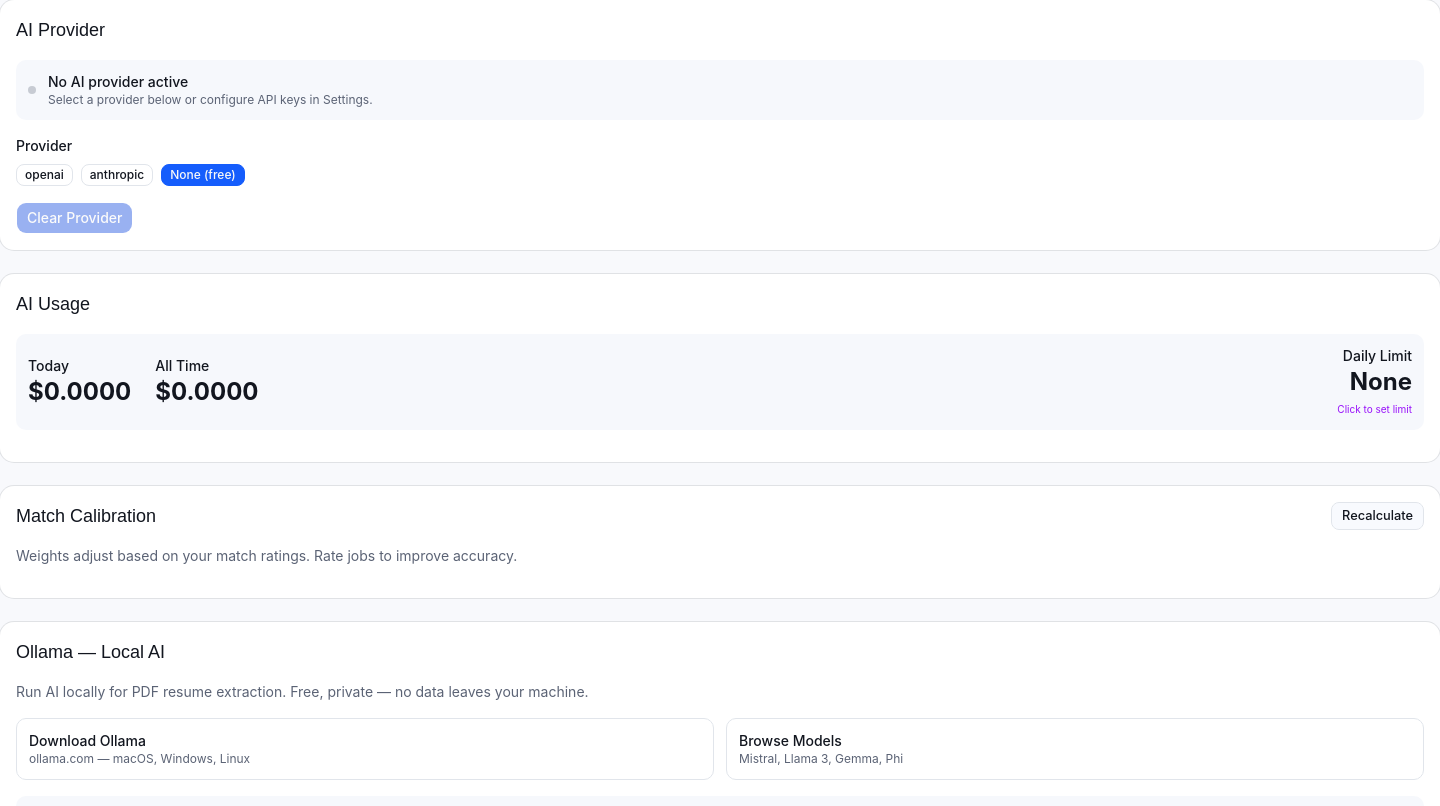
Scenario: Workflow: Configure LLM provider › surfaces failure message when saveLLM throws
Click the text "openai" at coordinates (44, 175), box [16,164,73,186]
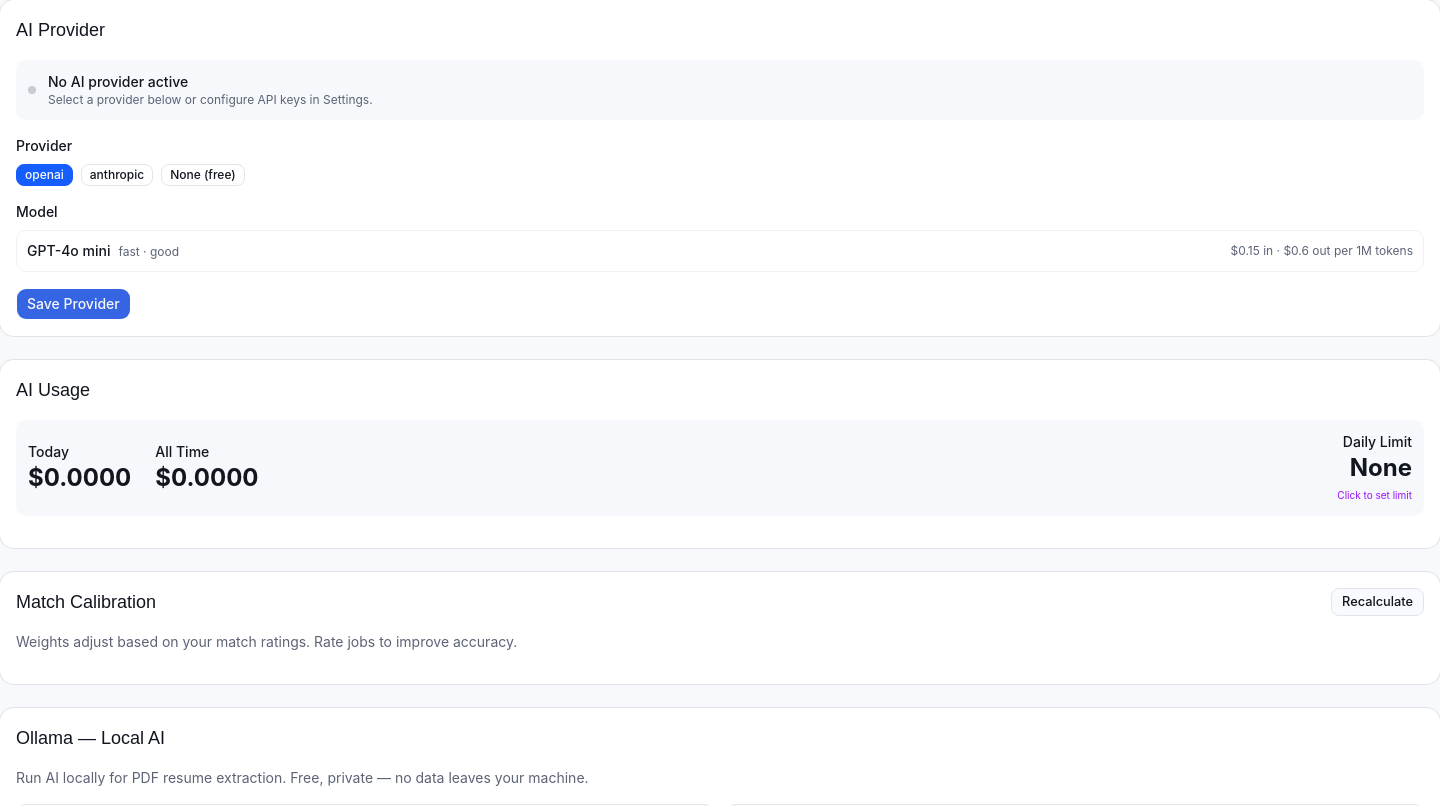
Click the text "GPT-4o mini" at coordinates (69, 250), box [27,242,110,259]
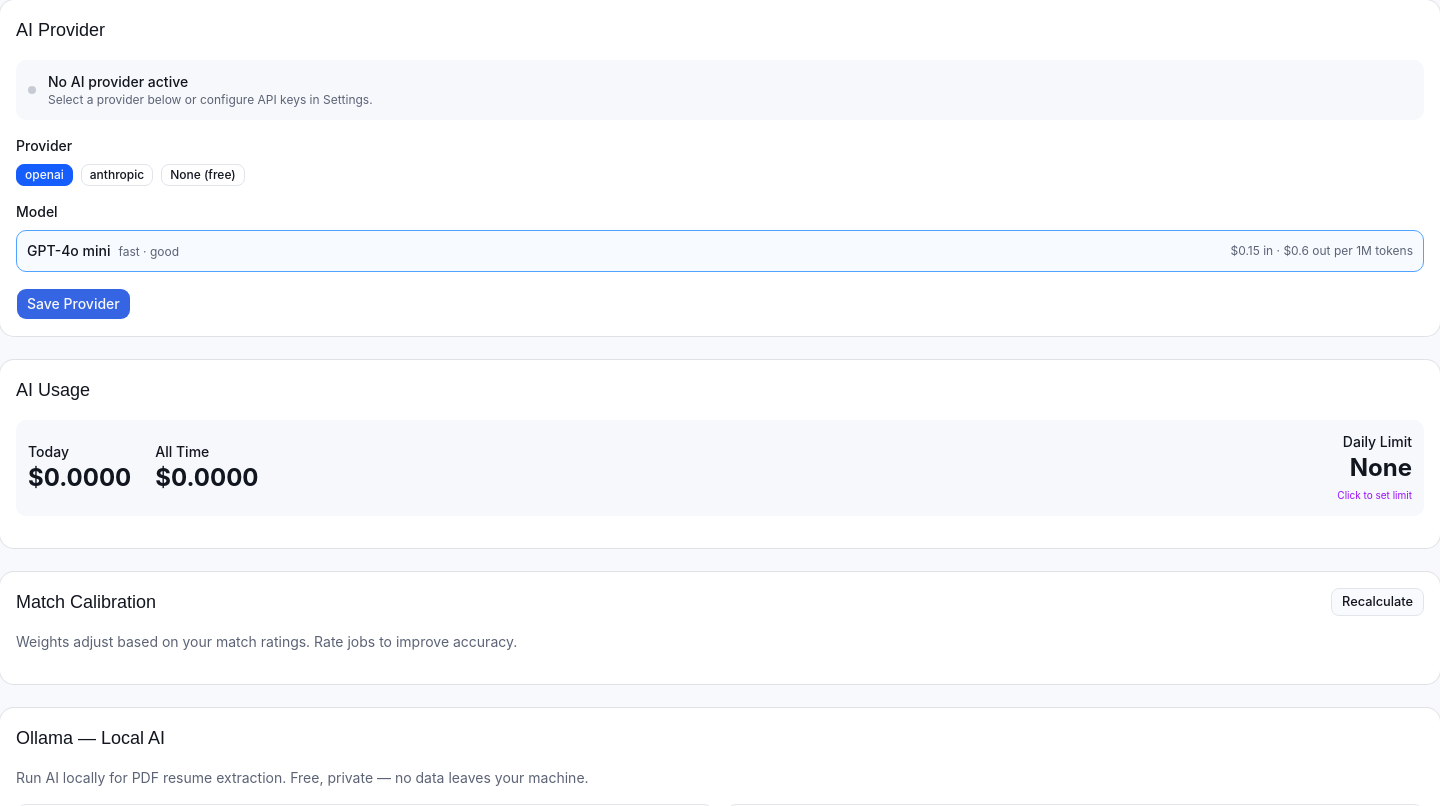
Click the button "Save Provider" at coordinates (73, 304), box [16,288,131,320]
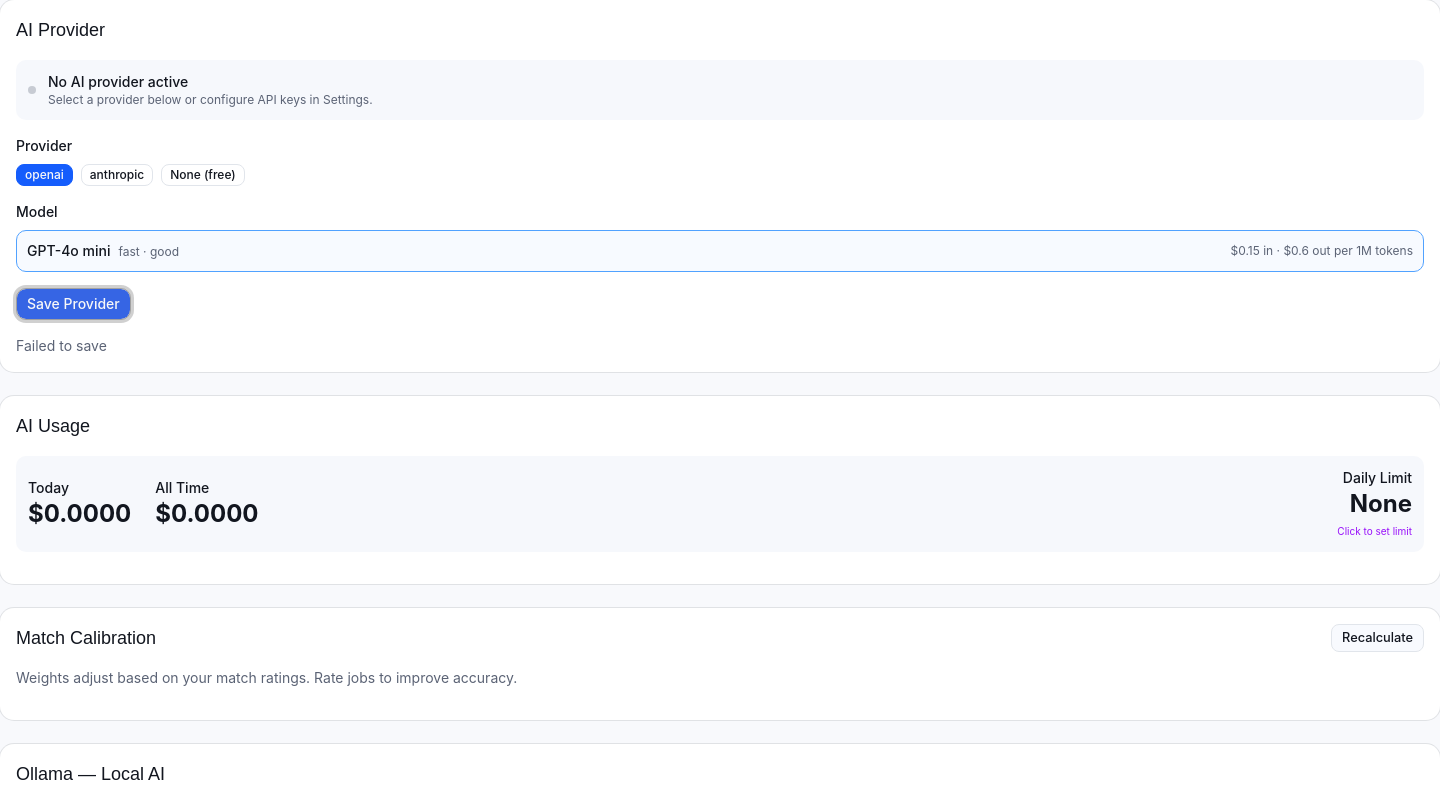
Expected: the text "Failed to save" is shown, [16,337,107,354]
